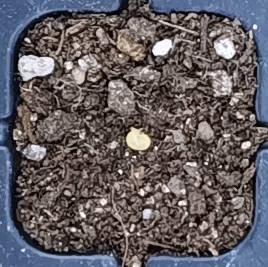pepper seed: (48, 50, 200, 202)
